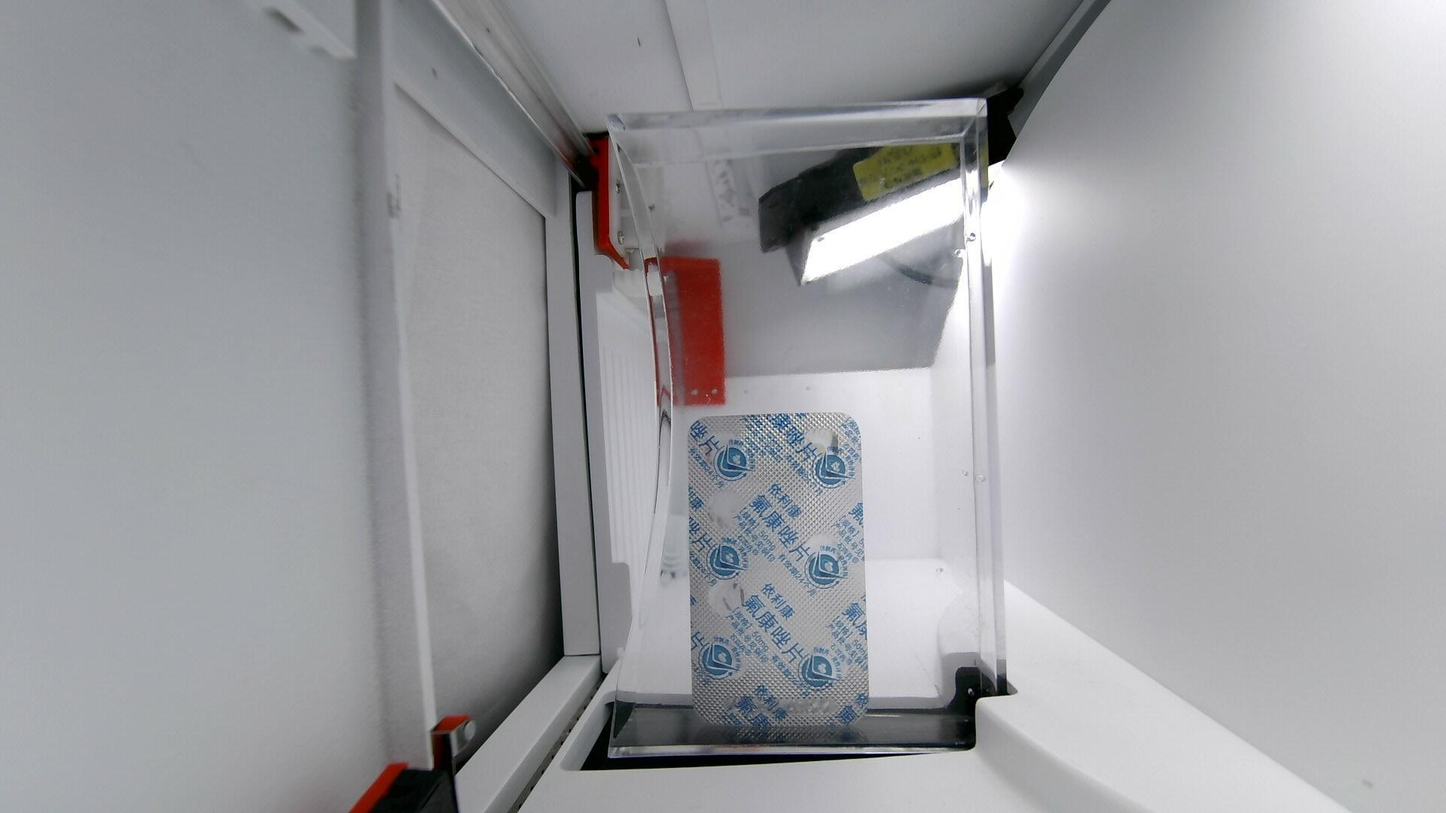Pill Back: (704, 482, 763, 530), (793, 425, 848, 473), (706, 433, 760, 481), (804, 636, 853, 685), (798, 531, 850, 575), (707, 637, 749, 683), (707, 577, 748, 621)
